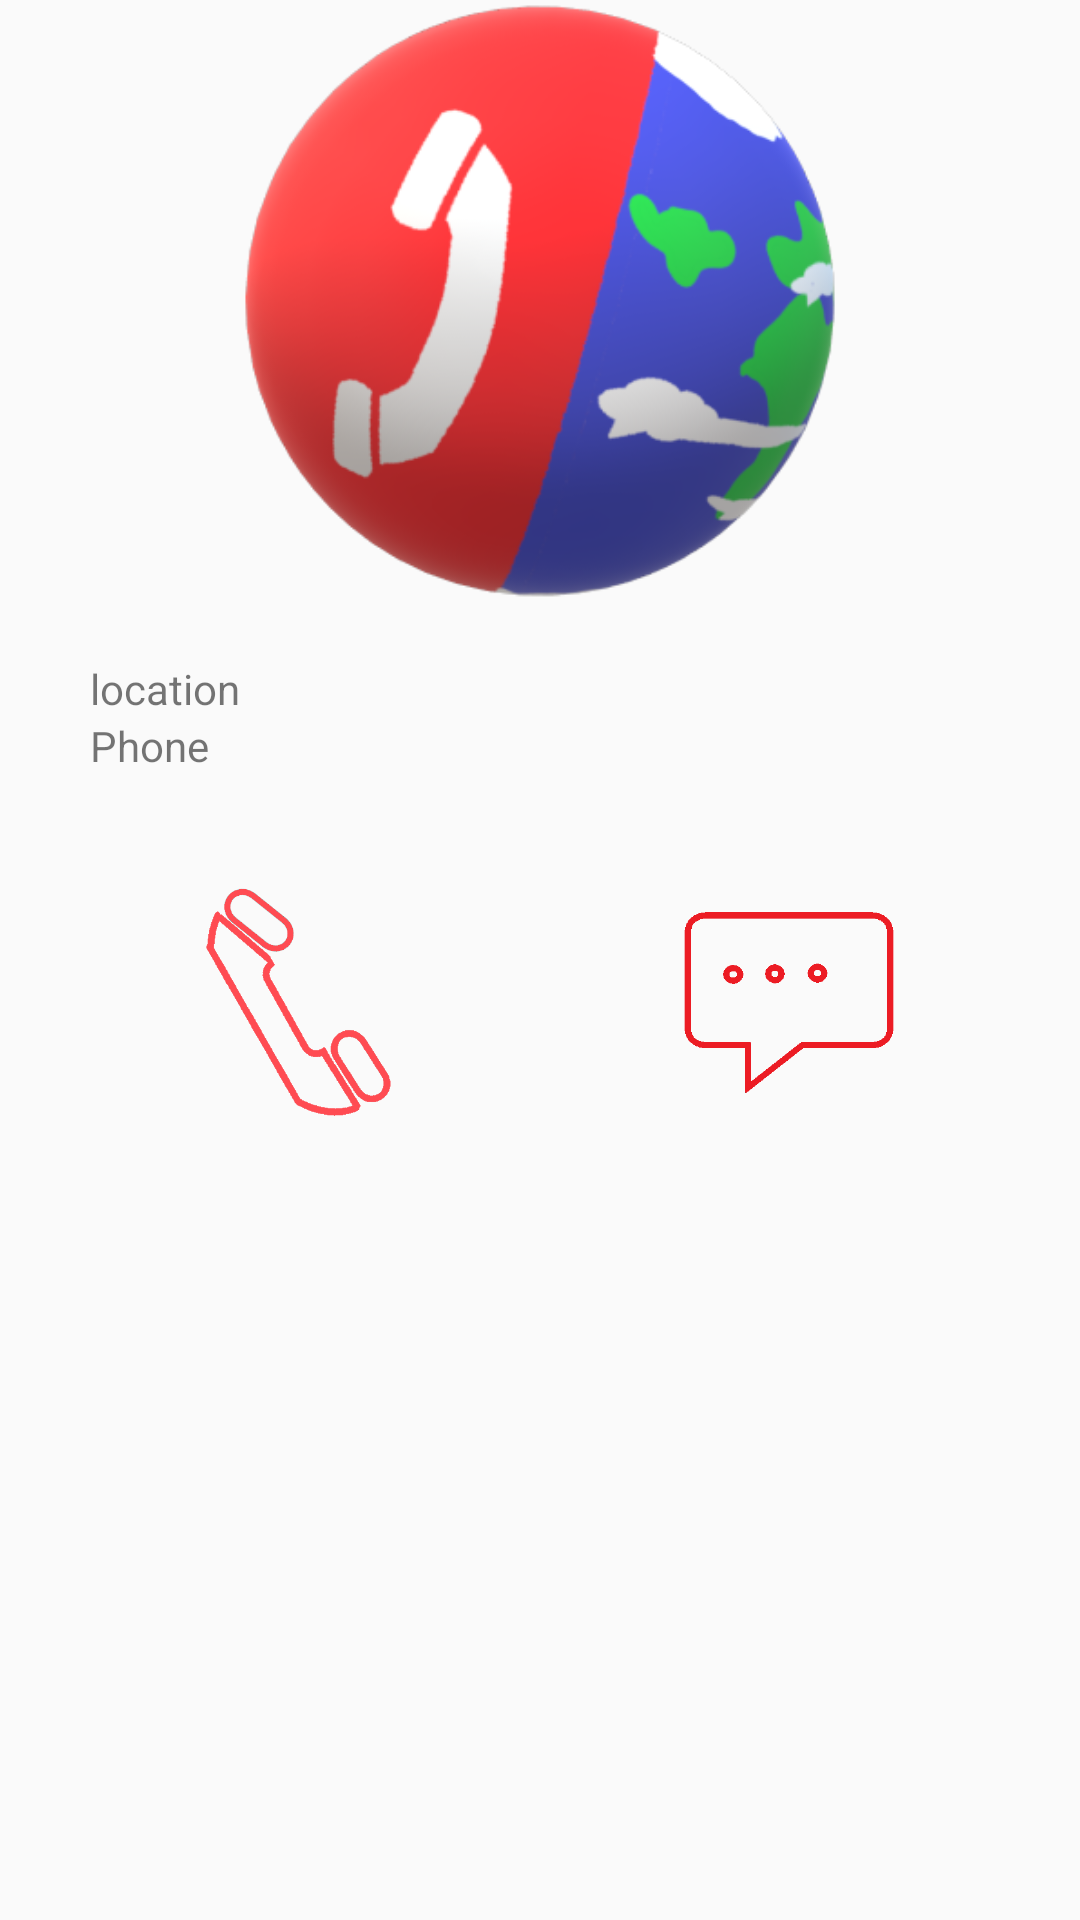

Icons on this 1080 × 1920 Android screen, each with its box as (x1, y1, x2, y2):
message: (684, 912, 894, 1093)
